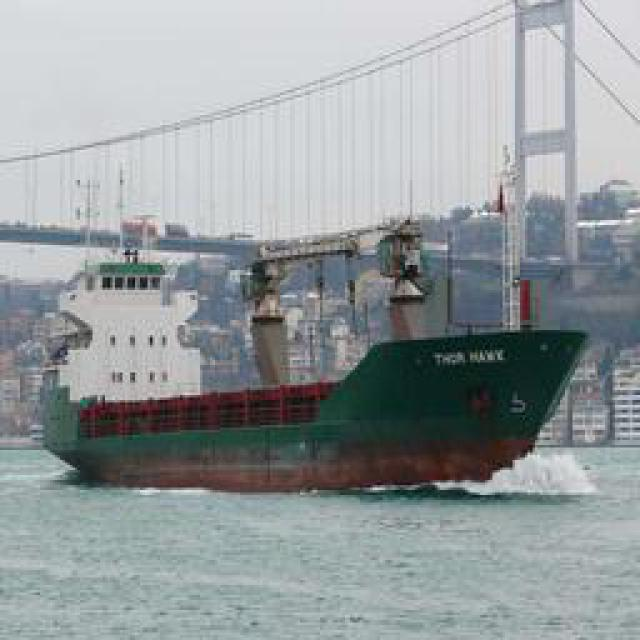Ship: (41, 312, 599, 492)
